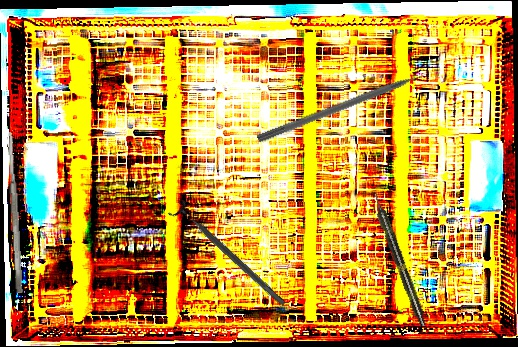Fixation Ring: (166, 197, 292, 313)
Handpiece: (369, 190, 429, 328)
Pusher: (256, 66, 439, 145)
Spatula Surgical: (6, 131, 24, 294)
